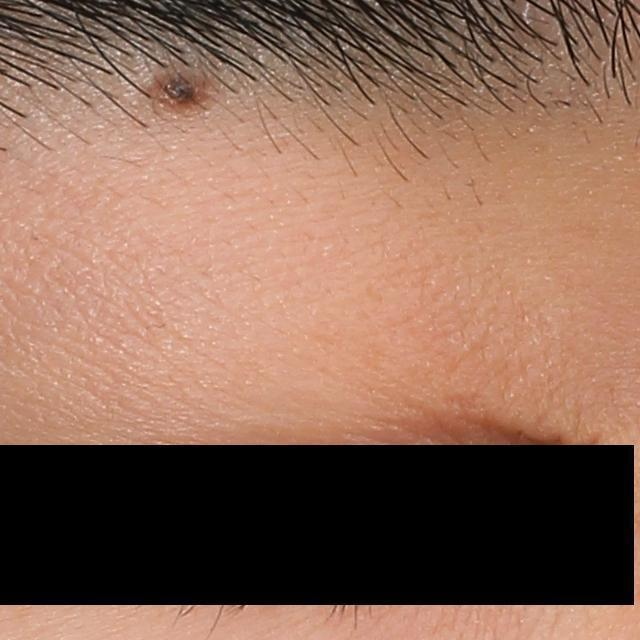nevus: (142, 64, 215, 119)
